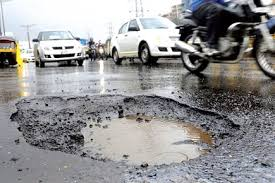pothole: (10, 94, 247, 168)
